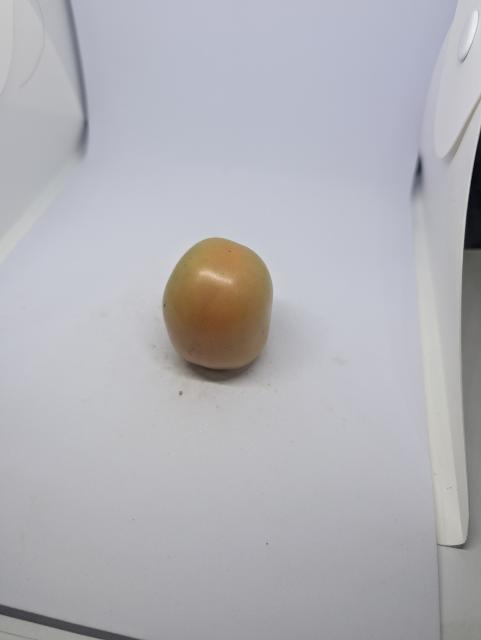turning: (153, 228, 288, 377)
